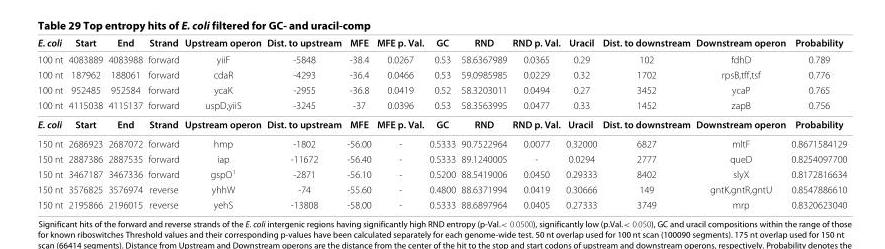table: (36, 36, 846, 210)
table column: (692, 36, 787, 210), (599, 36, 692, 210), (181, 36, 263, 210), (263, 36, 343, 210), (787, 36, 846, 210), (373, 36, 426, 210), (509, 36, 562, 210), (457, 36, 509, 210), (104, 36, 144, 210), (65, 36, 104, 210), (144, 36, 181, 210), (562, 36, 599, 210), (426, 36, 457, 210), (343, 36, 373, 210), (36, 36, 65, 210)
table column header: (36, 36, 846, 50)
table row: (36, 114, 846, 133), (36, 97, 846, 114), (36, 133, 846, 150), (36, 50, 846, 66), (36, 66, 846, 82), (36, 150, 846, 166), (36, 82, 846, 97), (36, 166, 846, 181), (36, 181, 846, 196), (36, 36, 846, 50), (36, 196, 846, 210)
